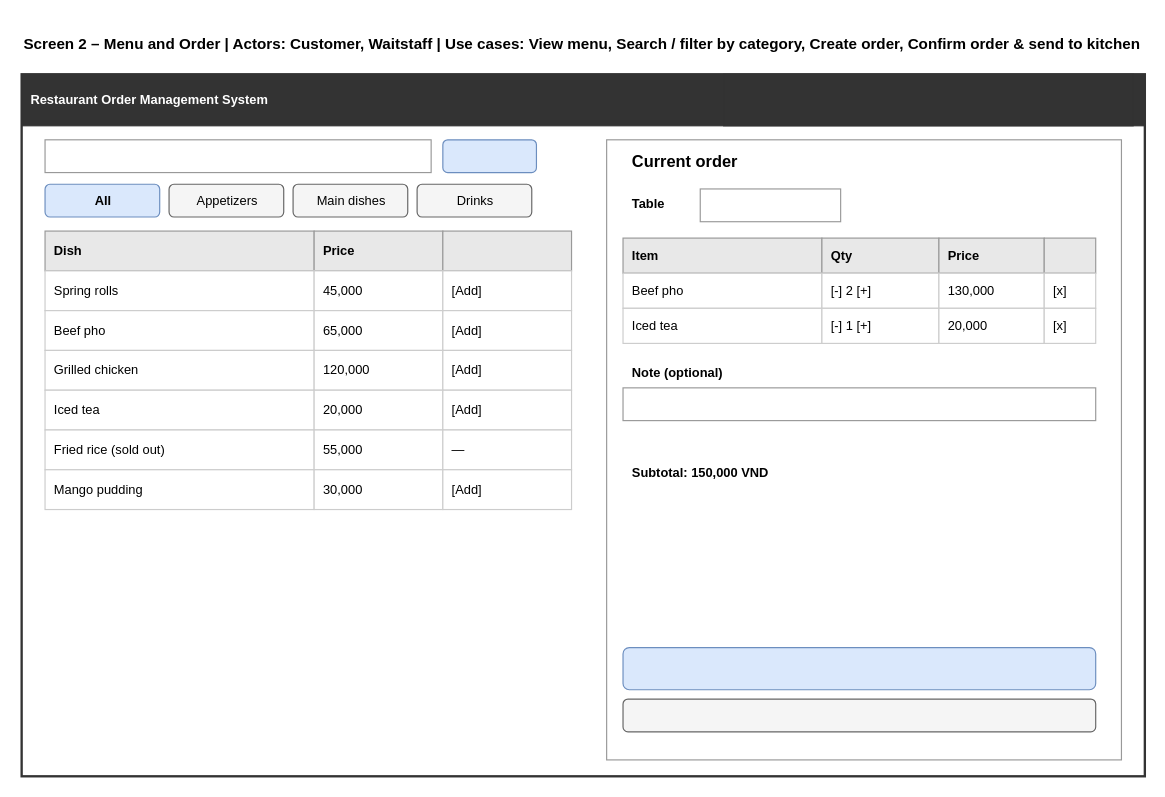
This 1165x797 diagram has some shape labels left out. The centre of each missing label's shape, as x and y in pixels:
"Cancel" goes at point (859, 715).
"Confirm order & send to kitchen" goes at point (859, 668).
"Customer / Waitstaff" goes at point (927, 99).
"e.g. no onion" goes at point (859, 404).
"Search" goes at point (489, 156).
"Search dish by name..." goes at point (237, 156).
"T03 ▼" goes at point (770, 205).
